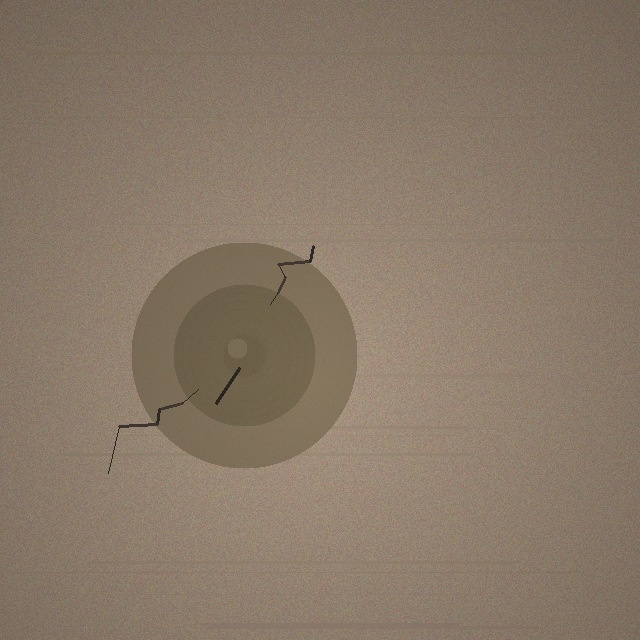crack: (131, 242, 357, 468)
